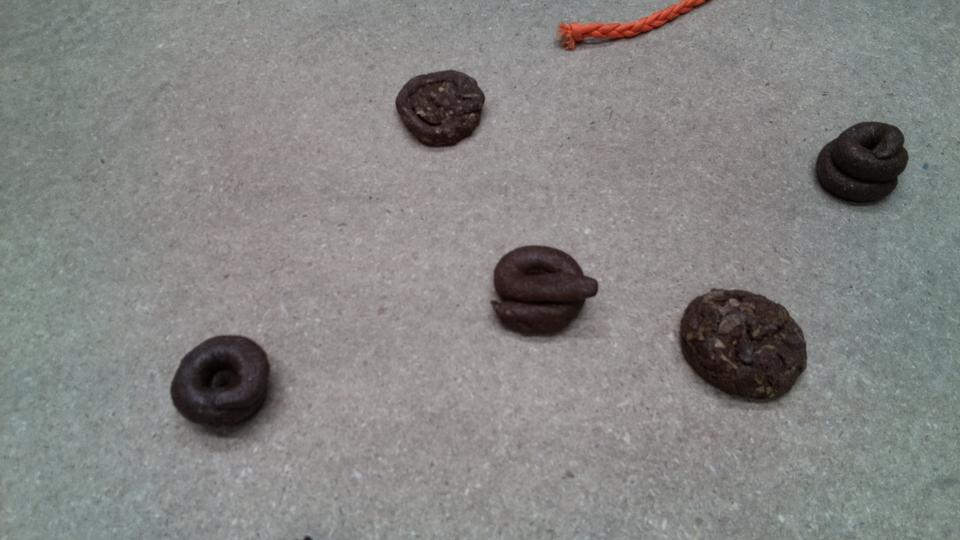poop: (676, 284, 811, 410), (166, 330, 273, 436), (487, 242, 601, 337), (813, 120, 911, 209), (393, 65, 488, 152)
rope: (555, 1, 690, 56)
